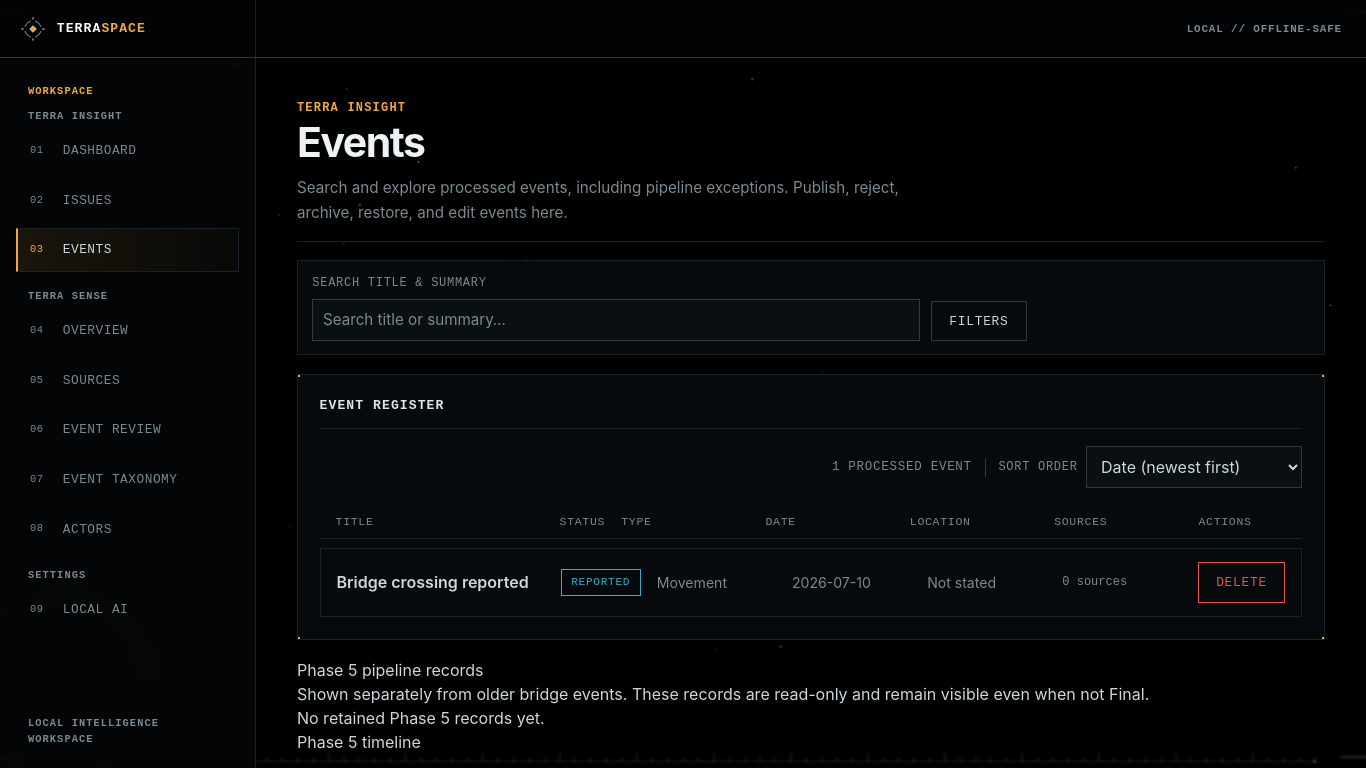
Test: EventsPage › deletes an event after confirmation and returns to the list
Click the button "Bridge crossing reported" at {"x": 441, "y": 583}, box [337, 572, 545, 593]
(page scrolled)
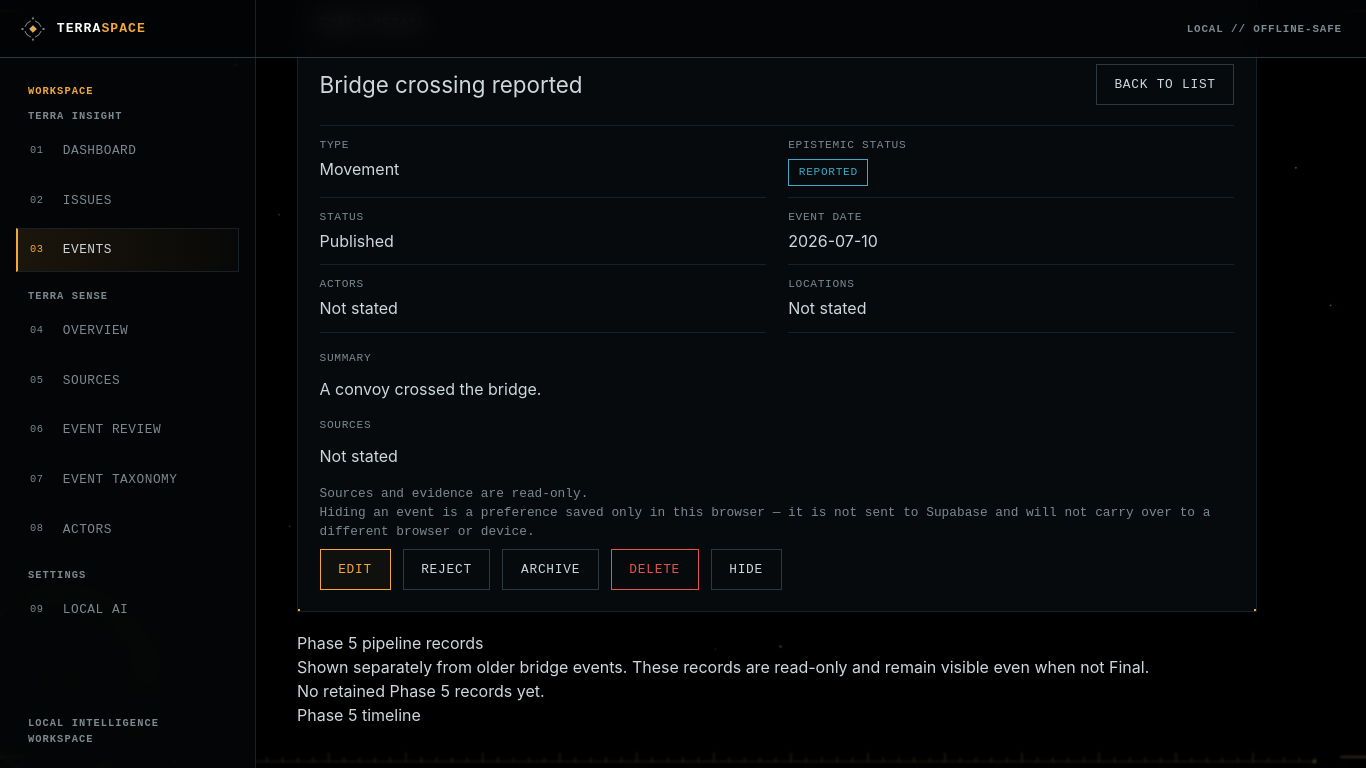
Click the button "Delete" at {"x": 655, "y": 569}, box [611, 549, 699, 590]
(page scrolled)
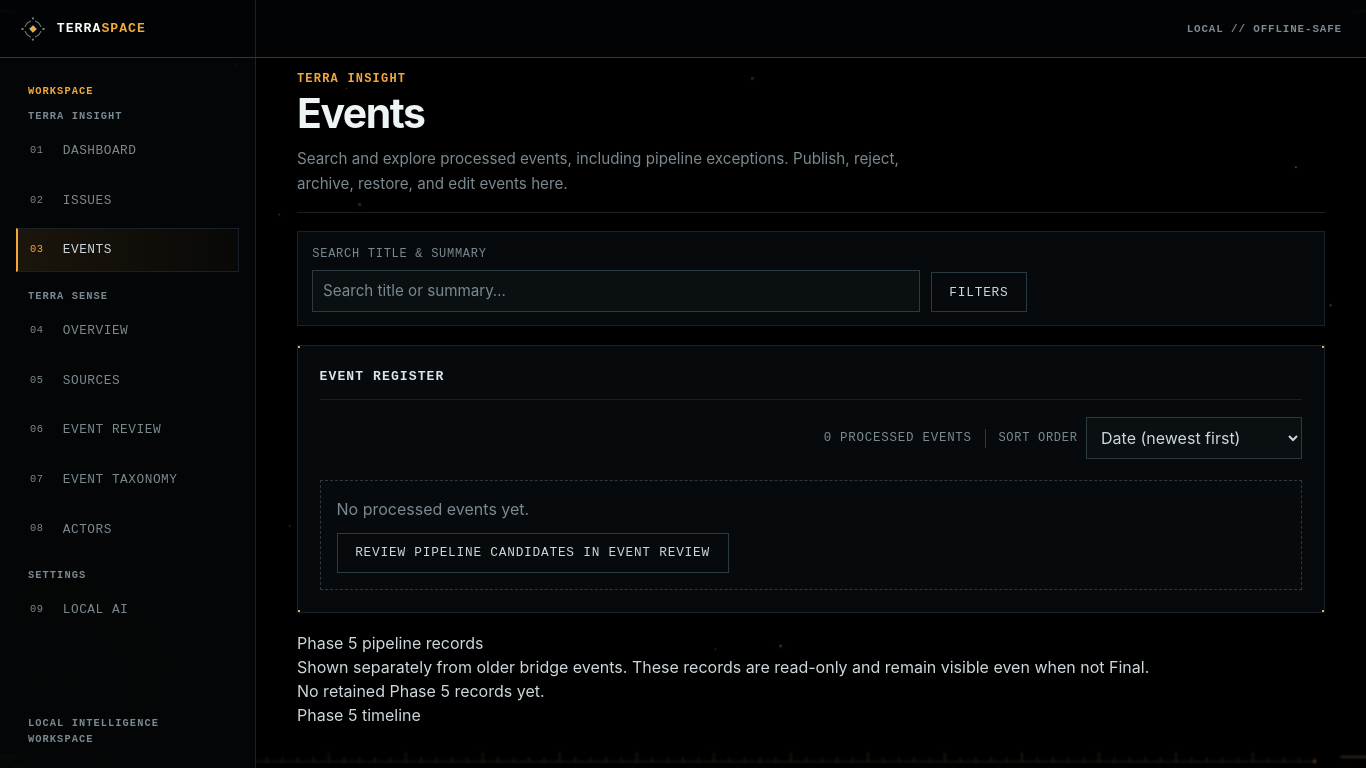
Expected: the text "No processed events yet." is shown, [337, 497, 529, 521]
